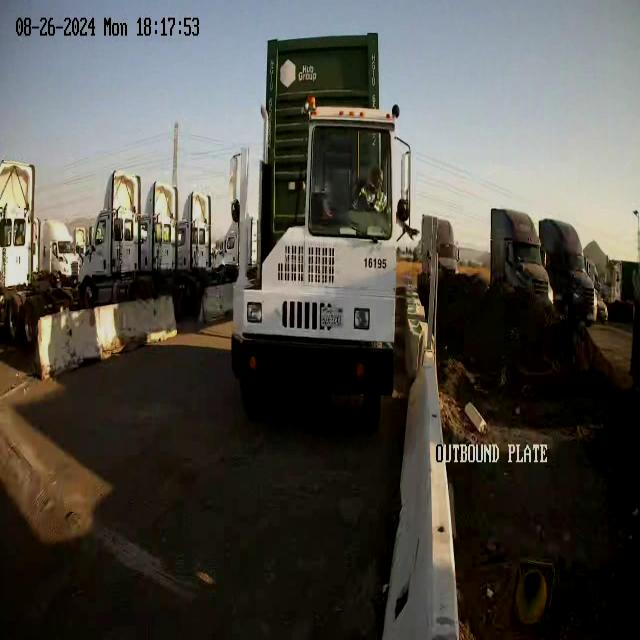TRUCK_CONTAINER: (227, 31, 415, 425)
